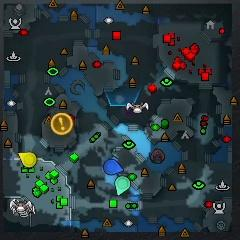Other: (51, 113, 73, 135)
p1: (104, 159, 124, 176)
p2: (115, 176, 131, 196)
p4: (17, 152, 37, 168)
